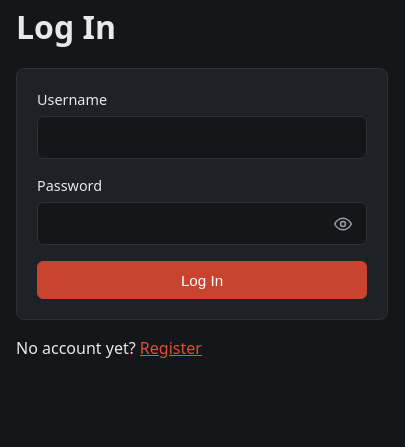
Test: AuthPage › shows a clear message for wrong credentials
This screenshot has width=405, height=447.
Step 1. Type "wolf" into the field labelled "Username" → x=202, y=138, box [37,116,367,159]
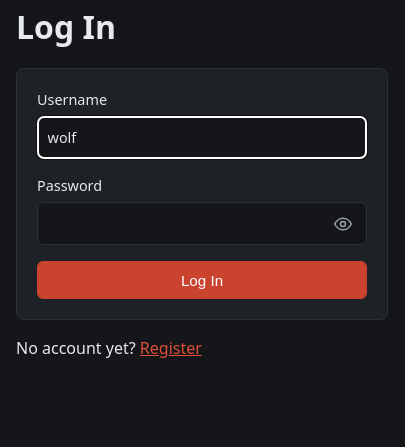
Step 2. Type "kusabimaru" into the password field labelled "Password" → x=202, y=224, box [37,202,367,245]
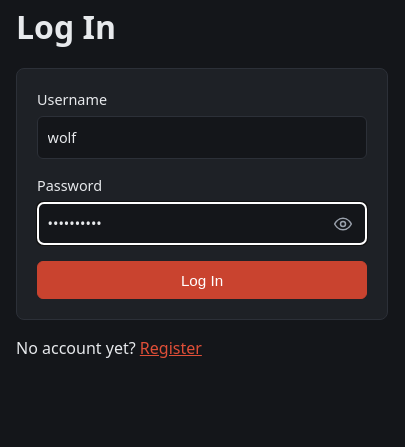
Step 3. Click the button "Log In" → x=202, y=280, box [37,261,367,299]
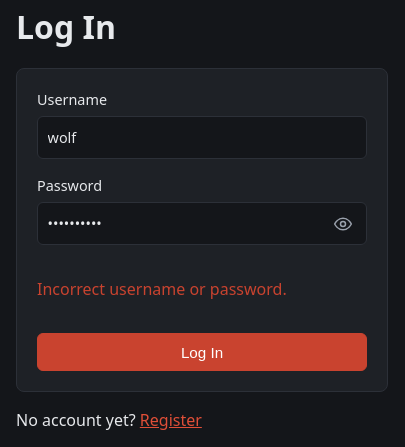
Expected: the button "Log In" is enabled, [37,333,367,371]
Expected: the message reads "Incorrect username or password.", [37,278,287,300]
